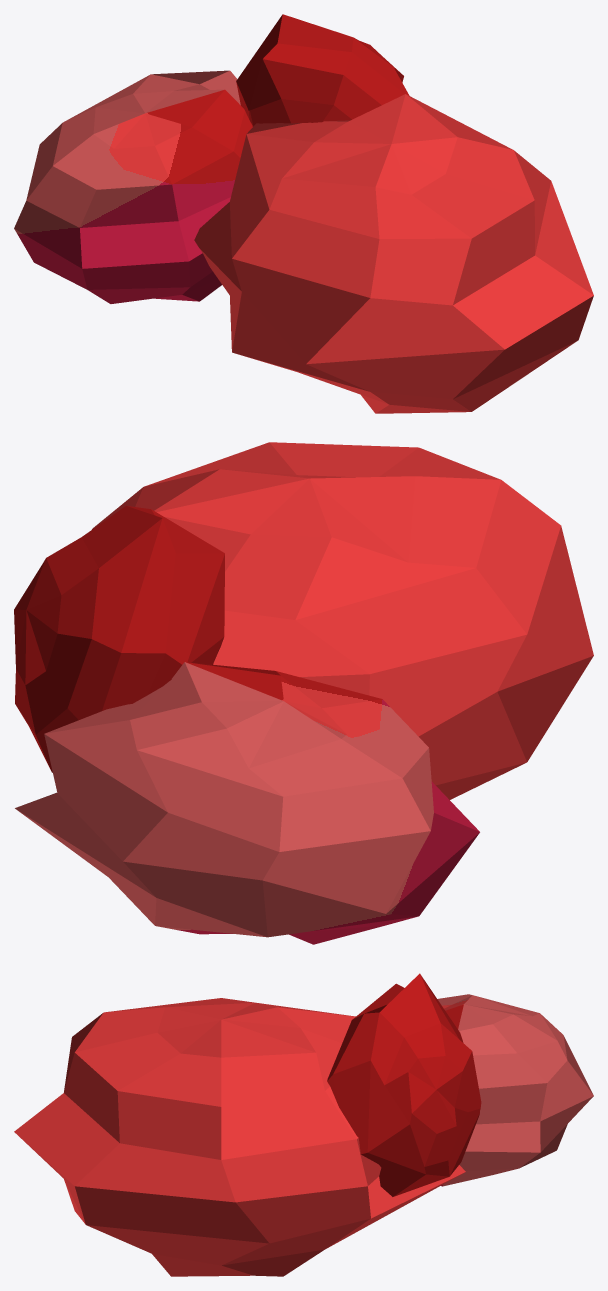
The model's file is meat.fbx.
3 views of the same model, one above another, from view 1: azimuth 30°, elevation 25°; view 2: azimuth 150°, elevation 25°; view 3: azimuth 270°, elevation 25° (orthographic). The views are drawn at different scales.
Visible parts, largest first — view 1: meat; view 2: meat; view 3: meat.
Part boxes in pixels (<box>): meat: <box>14,14,593,413</box>; meat: <box>14,442,593,944</box>; meat: <box>14,973,593,1276</box>.
Bounding box in the file's own units: 0.4555 × 0.329 × 0.6213.
